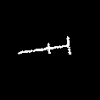double_crochet: (18, 36, 70, 53)
